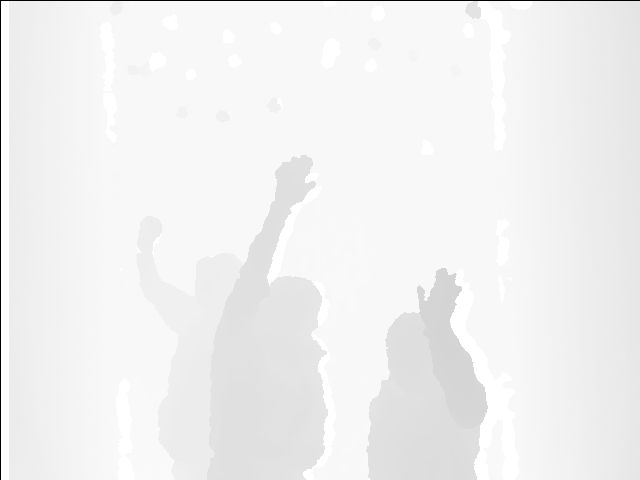hand: (271, 152, 317, 206), (420, 270, 457, 326), (133, 215, 163, 253)
